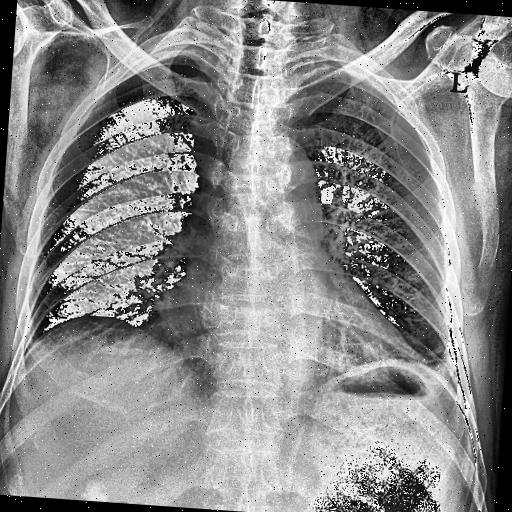1- Atelectasis: (384, 336, 463, 392), (416, 341, 462, 394)
13- Pulmonary fibrosis: (418, 332, 470, 384)
